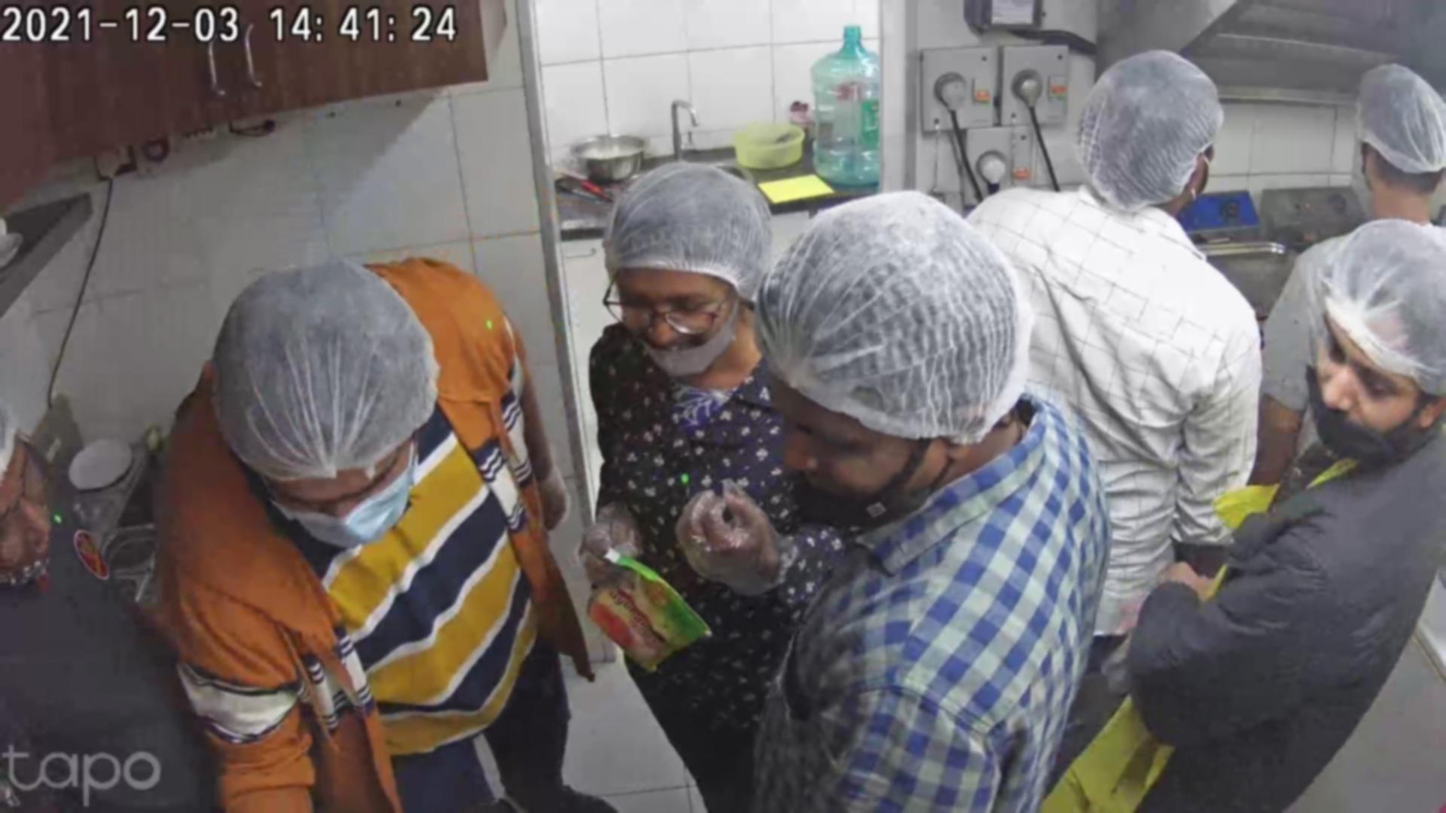apron: (661, 483, 806, 624)
gloves: (769, 181, 1039, 446), (212, 257, 453, 486), (1065, 36, 1233, 234), (596, 146, 774, 299), (1311, 216, 1446, 403), (1339, 59, 1446, 199)
mask: (273, 478, 430, 551)
no_apron: (0, 493, 76, 610), (1138, 548, 1220, 622)
no_hairnet: (762, 391, 921, 498), (1307, 341, 1420, 445), (613, 273, 731, 365)
